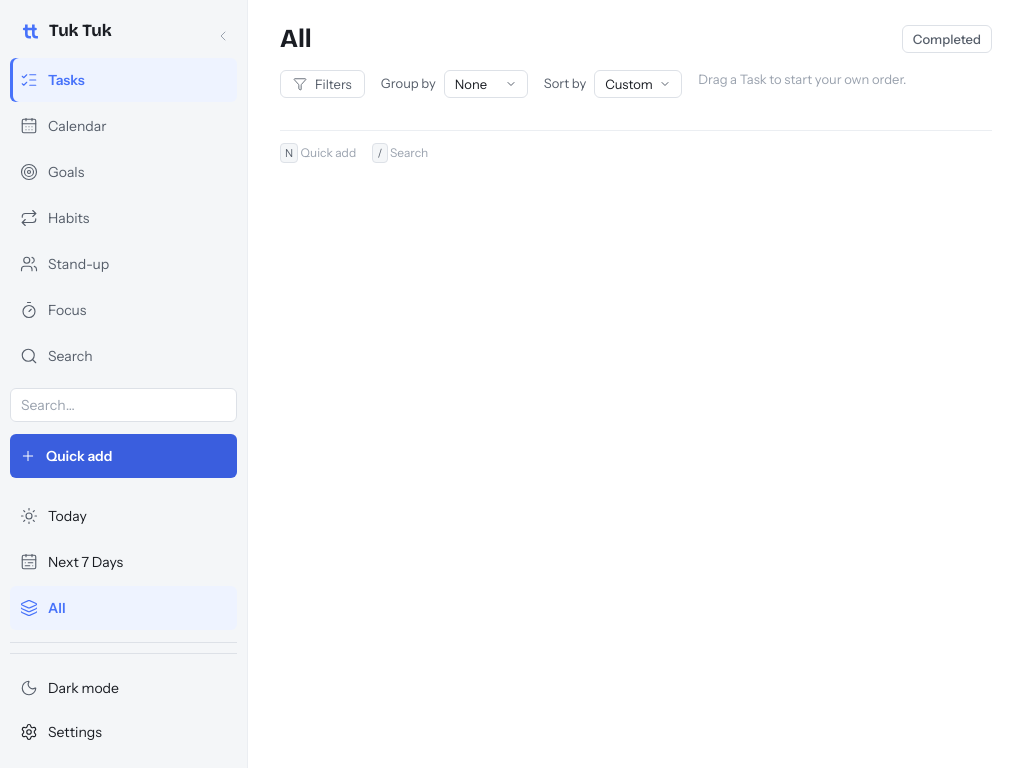
command palette › arrows through results and Enter navigates to the pick
The width and height of the screenshot is (1024, 768).
Check: the navigation bar named "Views" is shown, box [10,58,237,388]
Press k
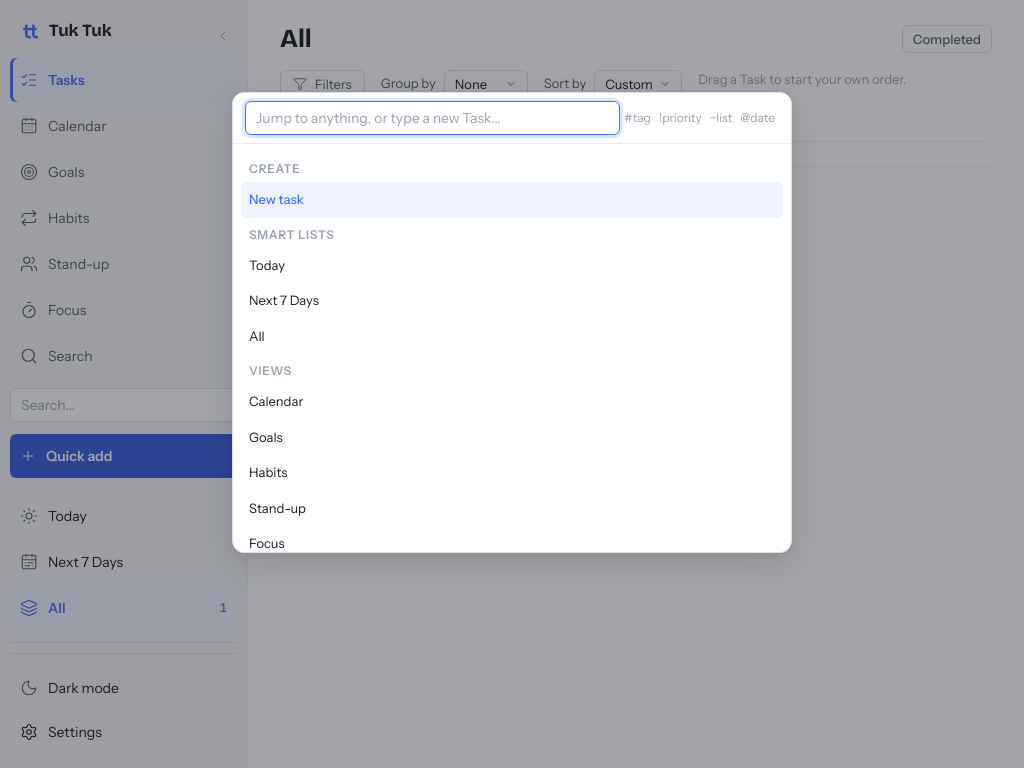
Type "Reading" into the dropdown.
click(433, 118); type("Reading")  # box [245,101,620,135]
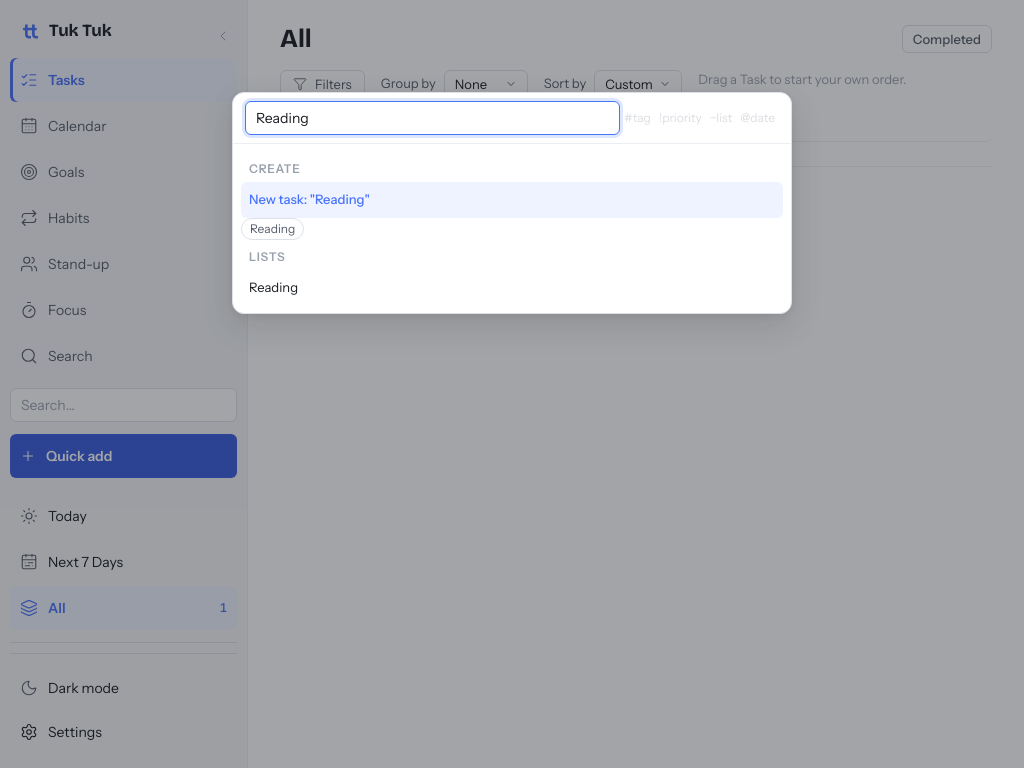
Press ArrowDown in the dialog named "Command palette", box [232,92,792,314]
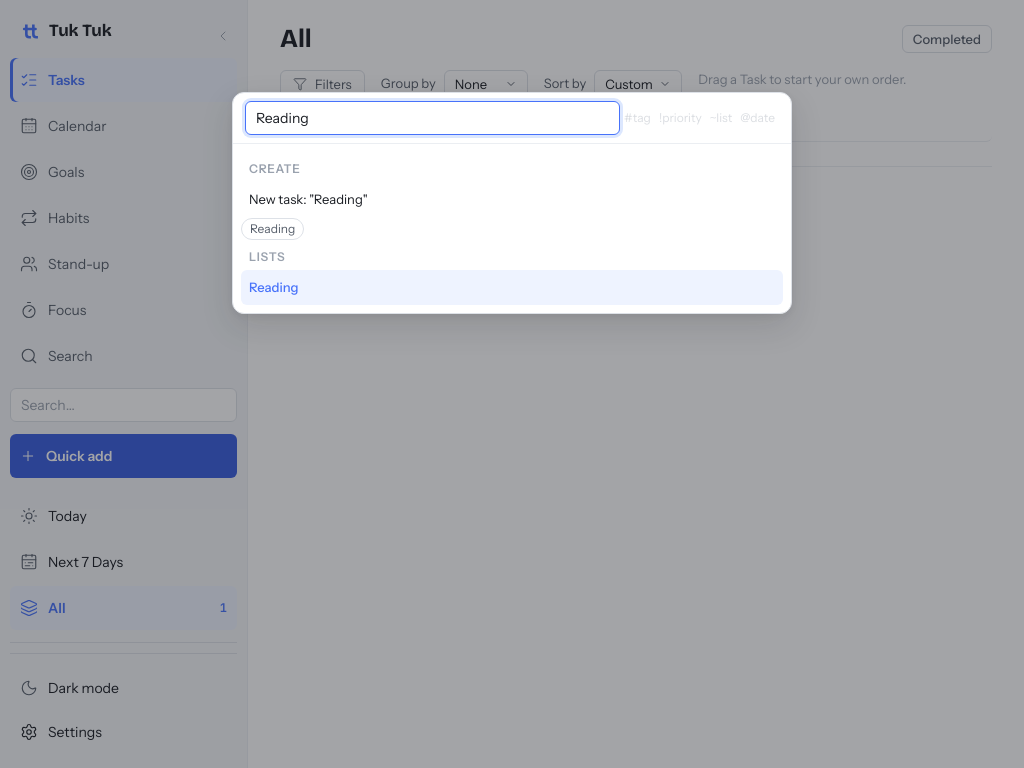
Press Enter in the dialog named "Command palette", box [232,92,792,314]
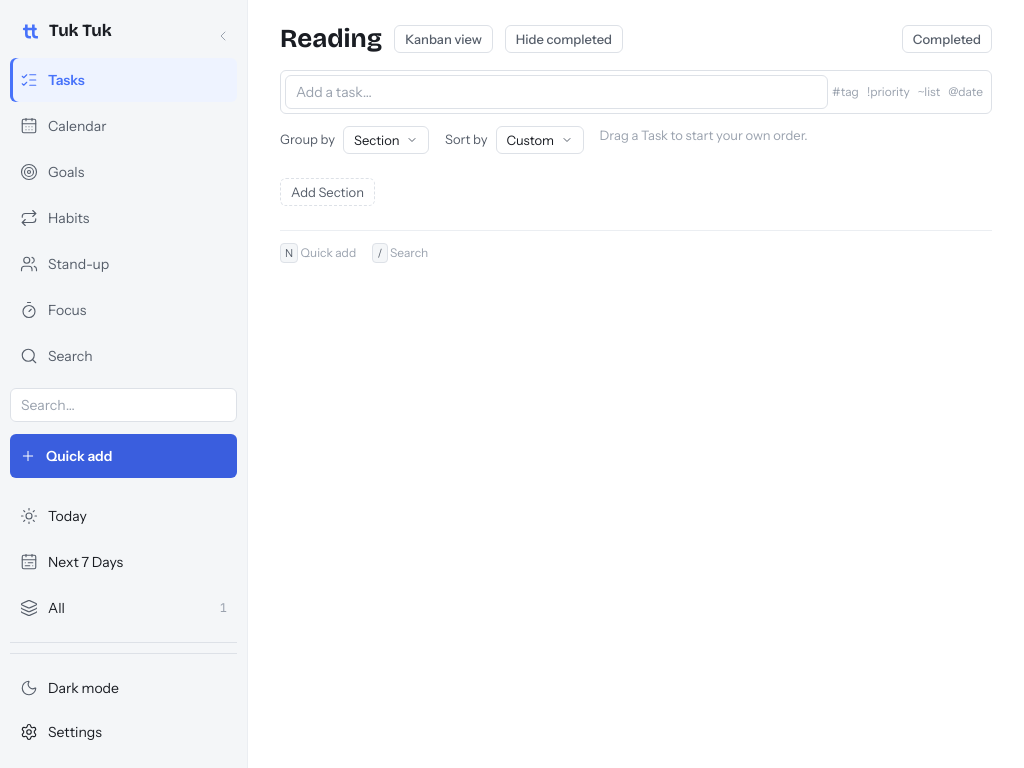
Check: the heading "Reading" is shown, box [280,24,382,54]
